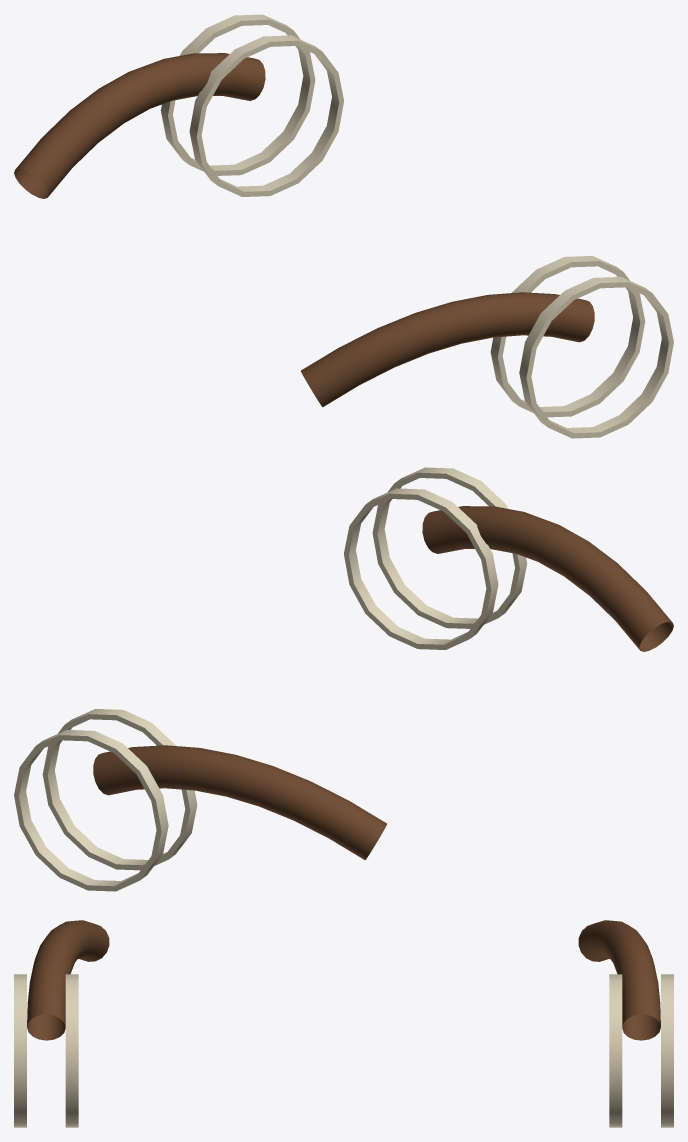
File: kpfe_pylon.obj
The picture shows the model from 3 angles, top to bottom: view 1: azimuth 30°, elevation 25°; view 2: azimuth 150°, elevation 25°; view 3: azimuth 270°, elevation 25°; orthographic projection. The views are drawn at different scales.
Parts seen in each view (by area): view 1: kpfe_pylon; view 2: kpfe_pylon; view 3: kpfe_pylon.
Part boxes in pixels (x1,y1,x2,y2): kpfe_pylon: (14, 14, 673, 438); kpfe_pylon: (14, 467, 673, 891); kpfe_pylon: (14, 920, 673, 1127).
Size of the model in its own units: 1.33 by 0.594 by 2.55.
